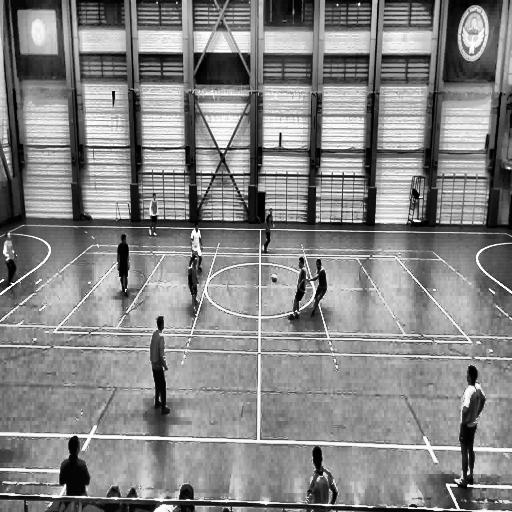ball: (271, 274, 277, 282)
player: (453, 364, 484, 486), (149, 313, 172, 417), (306, 445, 338, 510), (307, 258, 327, 318), (290, 258, 309, 318), (117, 233, 132, 299), (3, 231, 17, 286), (190, 221, 203, 272), (263, 208, 273, 253), (149, 193, 158, 235)
